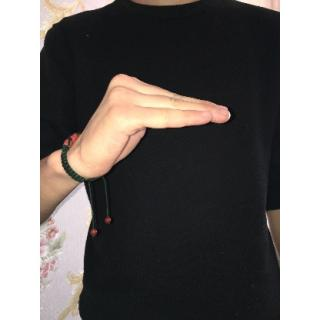HAA: (70, 67, 238, 181)
